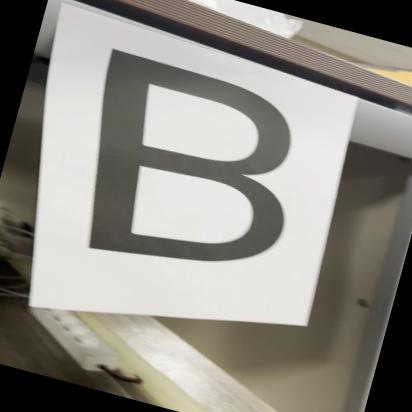seat: (43, 37, 324, 305)
